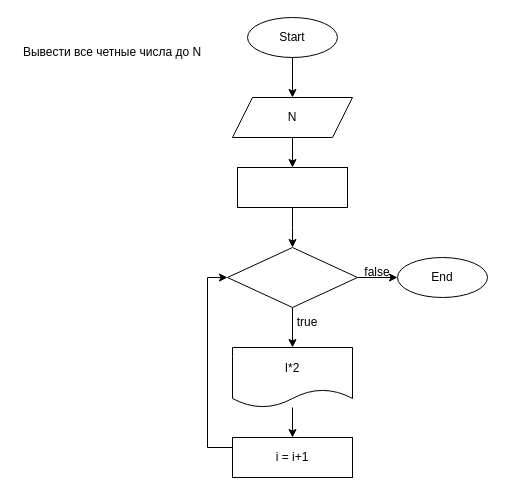
Some shapes in this 505 by 495 pixel diagram are drawn without their labels. Each missing label, with the centre of its shape:
"i <= K" belongs at (292,277).
"K = N/2 i = 1" belongs at (292,187).
